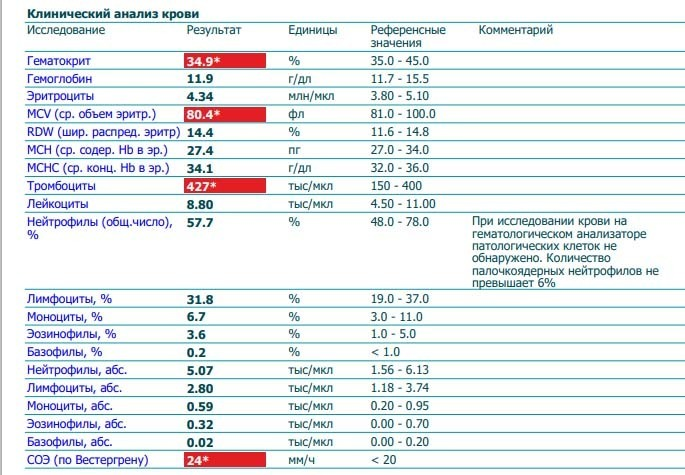column: (471, 22, 659, 468), (26, 22, 181, 468), (369, 22, 447, 468), (185, 22, 242, 468), (287, 22, 338, 468)
